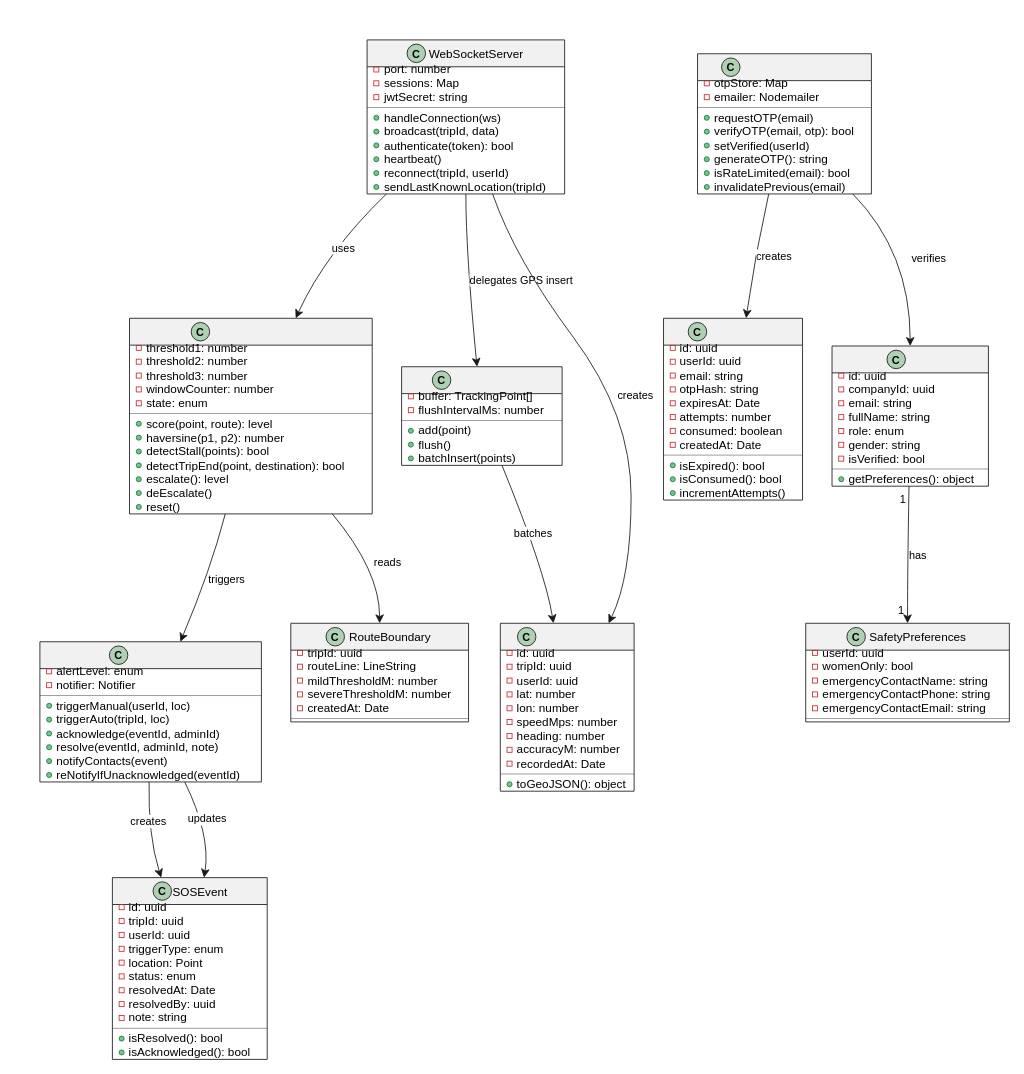
Some shapes in this 1024 by 1074 pixel diagram are drawn without their labels. The box of each missing label's shape, as (x1, y1, x2, y2) in pixels:
AnomalyDetector: (129, 317, 372, 514)
BatchIngestor: (401, 366, 562, 465)
OTPRequest: (663, 317, 803, 500)
SOSService: (39, 641, 261, 782)
TrackingPoint: (499, 622, 634, 791)
User: (831, 345, 988, 486)
VerificationService: (697, 53, 871, 194)
